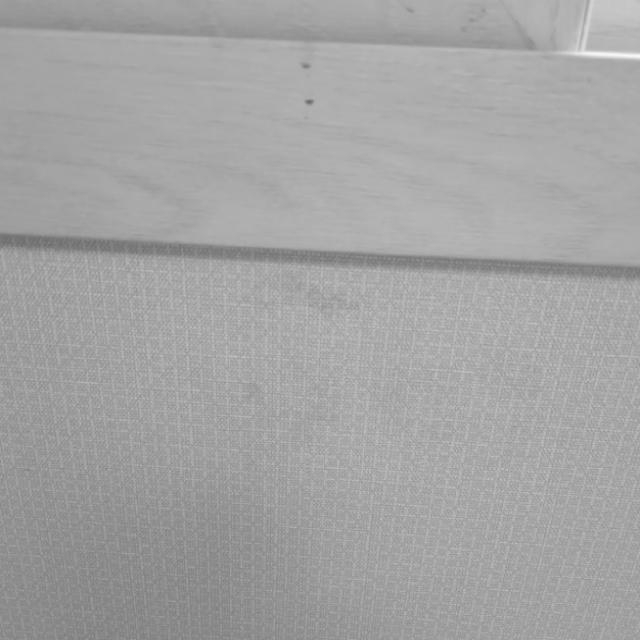stain marks: (228, 274, 434, 461)
